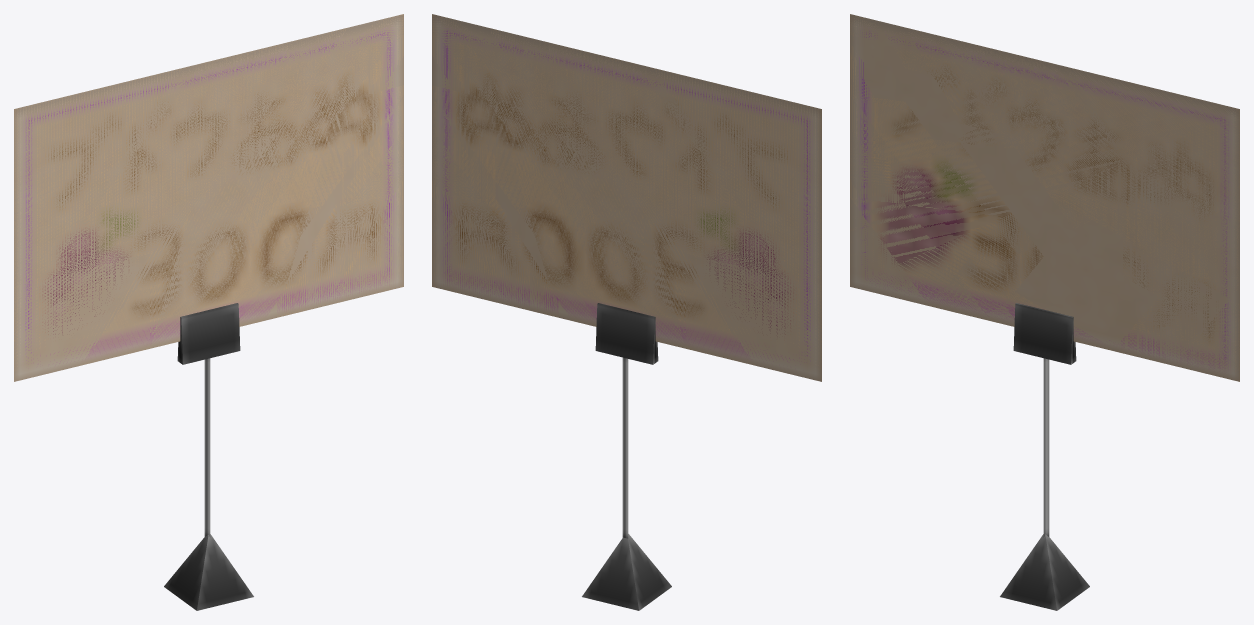
File: jsf_Flyer_AppleCandy_18.fbx
3 views of the same model, side by side, from view 1: azimuth 30°, elevation 25°; view 2: azimuth 150°, elevation 25°; view 3: azimuth 330°, elevation 25° (orthographic).
Visible parts, largest first — view 1: jsf_Flyer_AppleCandy_18; view 2: jsf_Flyer_AppleCandy_18; view 3: jsf_Flyer_AppleCandy_18.
Boxes of the visible parts, x1,y1,x2,y2 form: jsf_Flyer_AppleCandy_18: [14, 14, 403, 610]; jsf_Flyer_AppleCandy_18: [432, 14, 821, 610]; jsf_Flyer_AppleCandy_18: [850, 14, 1239, 610].
Size of the model in its own units: 8.82 by 11.47 by 1.3.
